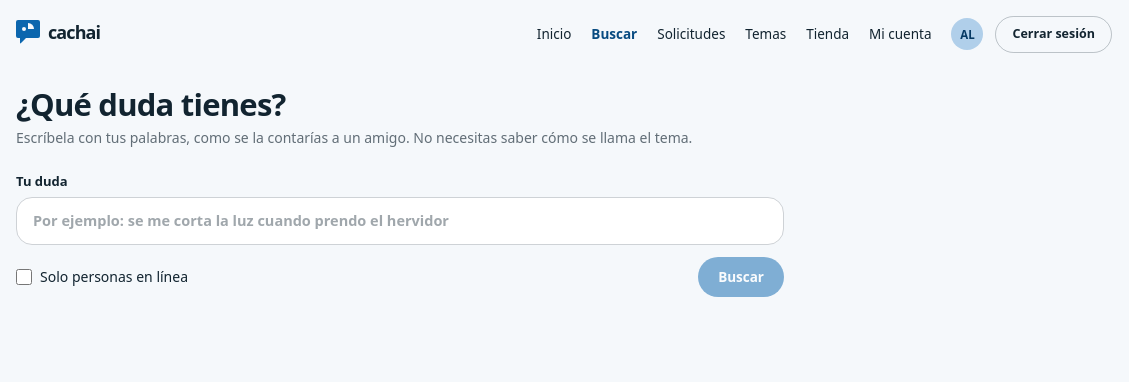
Test: buscador › si nadie coincide lo dice
Type "astrofisica cuantica" into the field labelled "Tu duda". click: (400, 221)
box: [16,197,784,245]
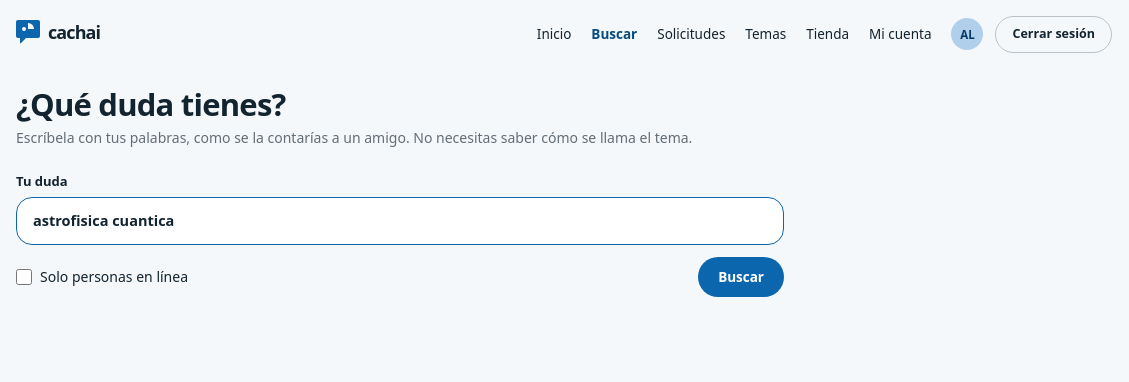
Click the button "Buscar". click: (741, 277)
box: [698,257,784,297]
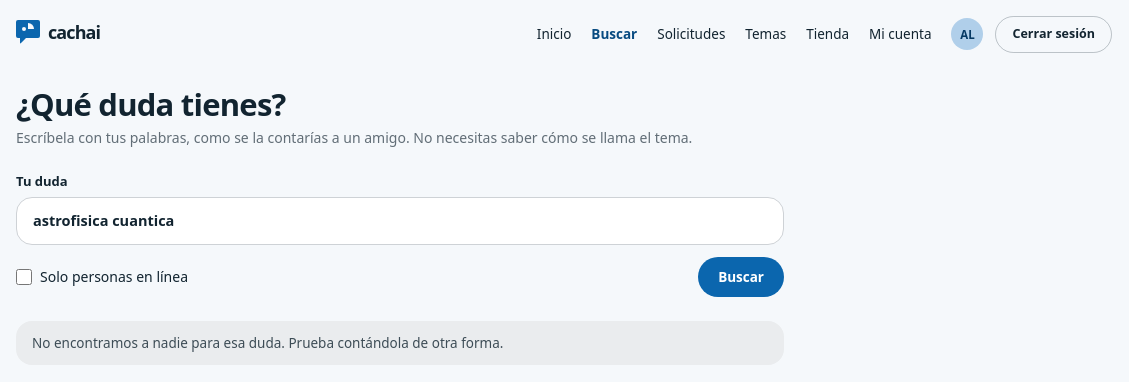
Now the text "No encontramos a nadie para esa duda. Prueba contándola de otra forma." is shown, box [16,321,784,365]
